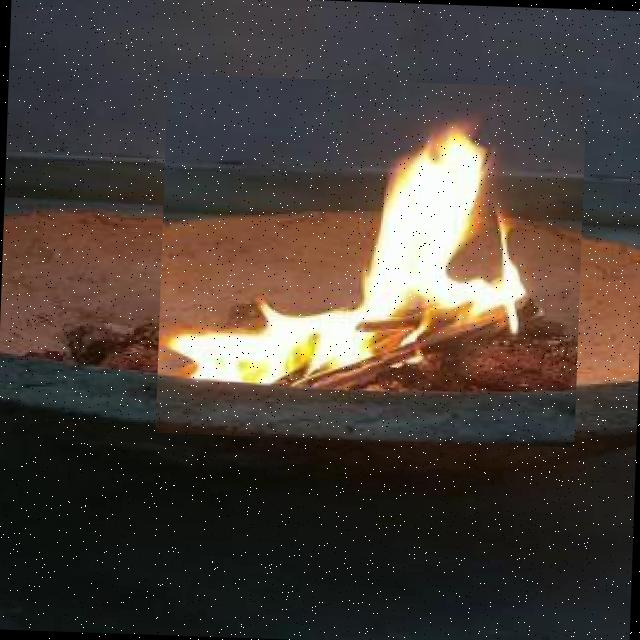fire: (155, 74, 586, 446)
